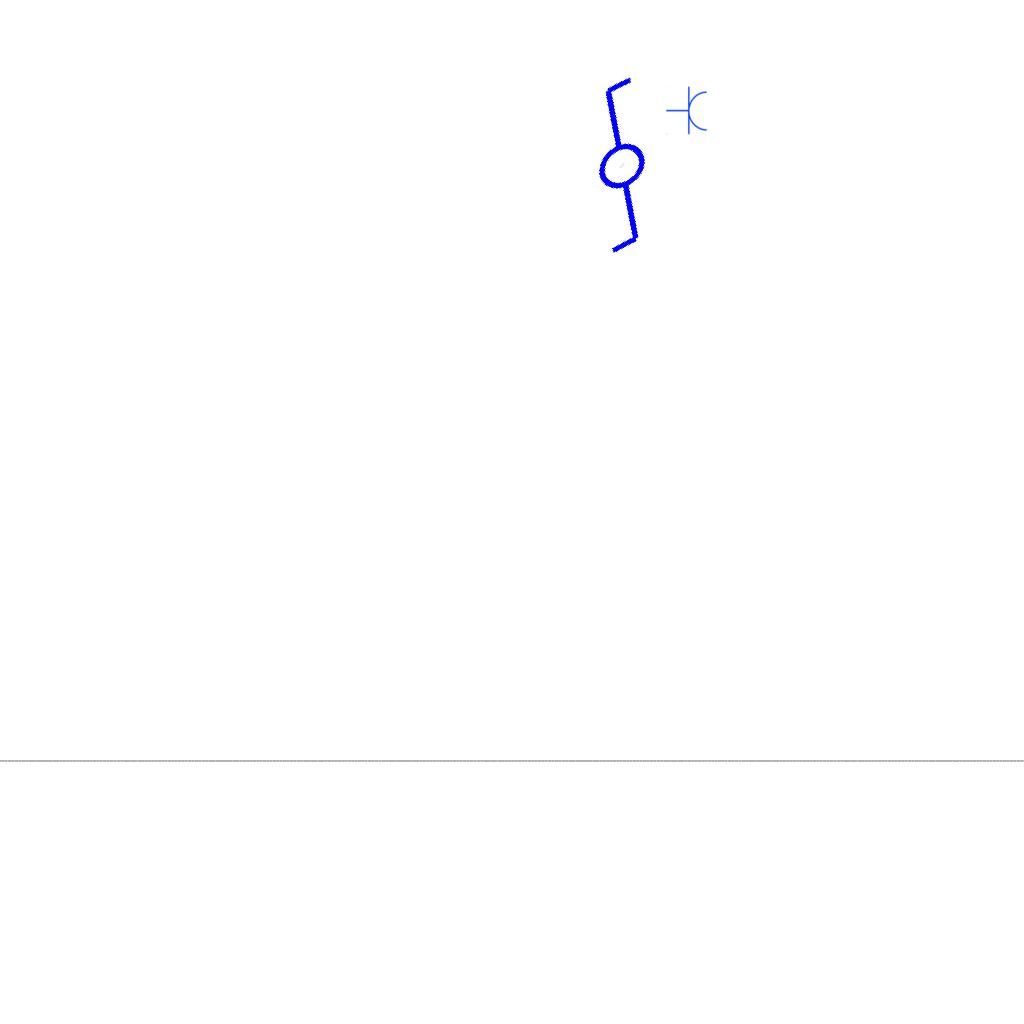Schukosteckdose_einfach: (666, 86, 709, 136)
Wechselschalter: (507, 63, 722, 277)
